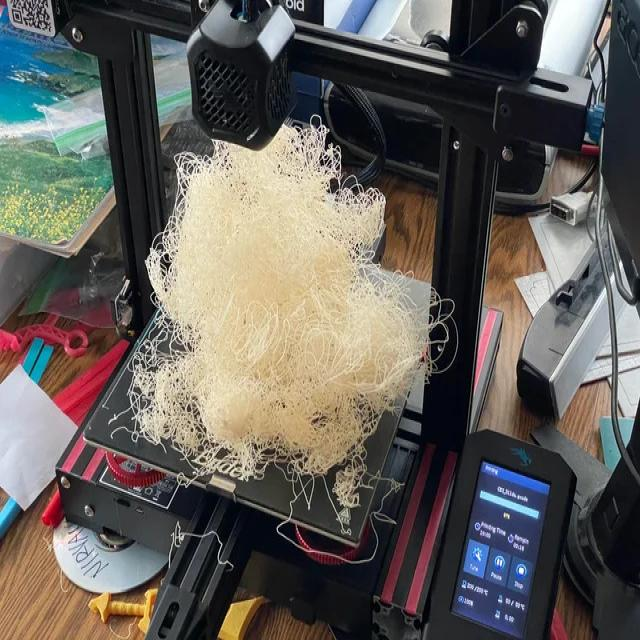spaghetti: (127, 124, 432, 544)
